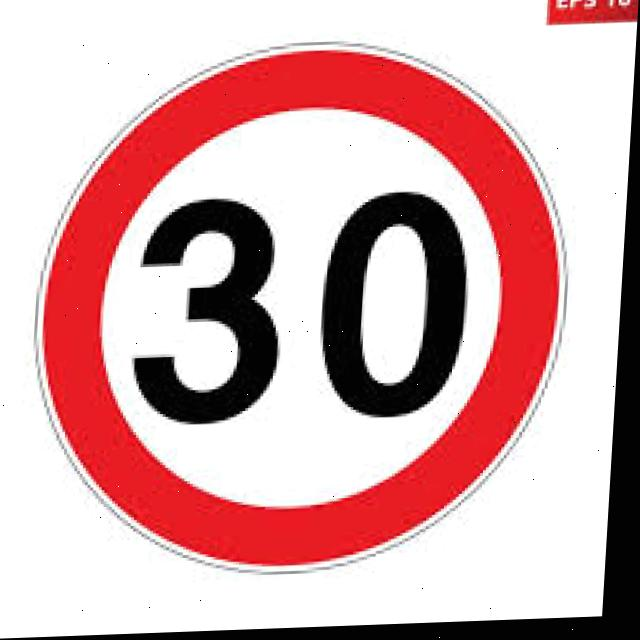Speed limit 30: (25, 32, 588, 585)
